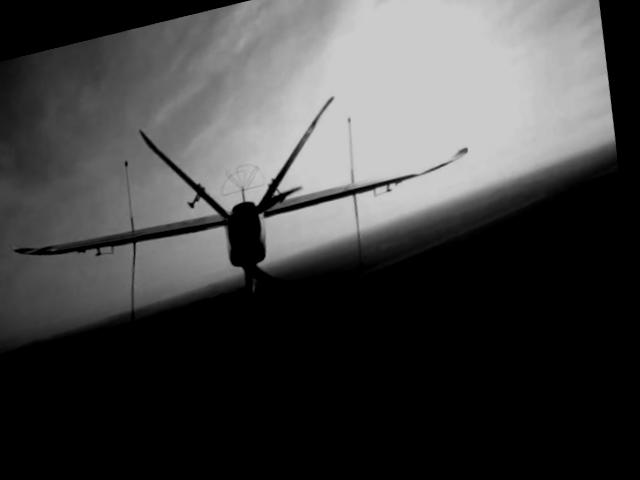hedef: (0, 49, 518, 375)
